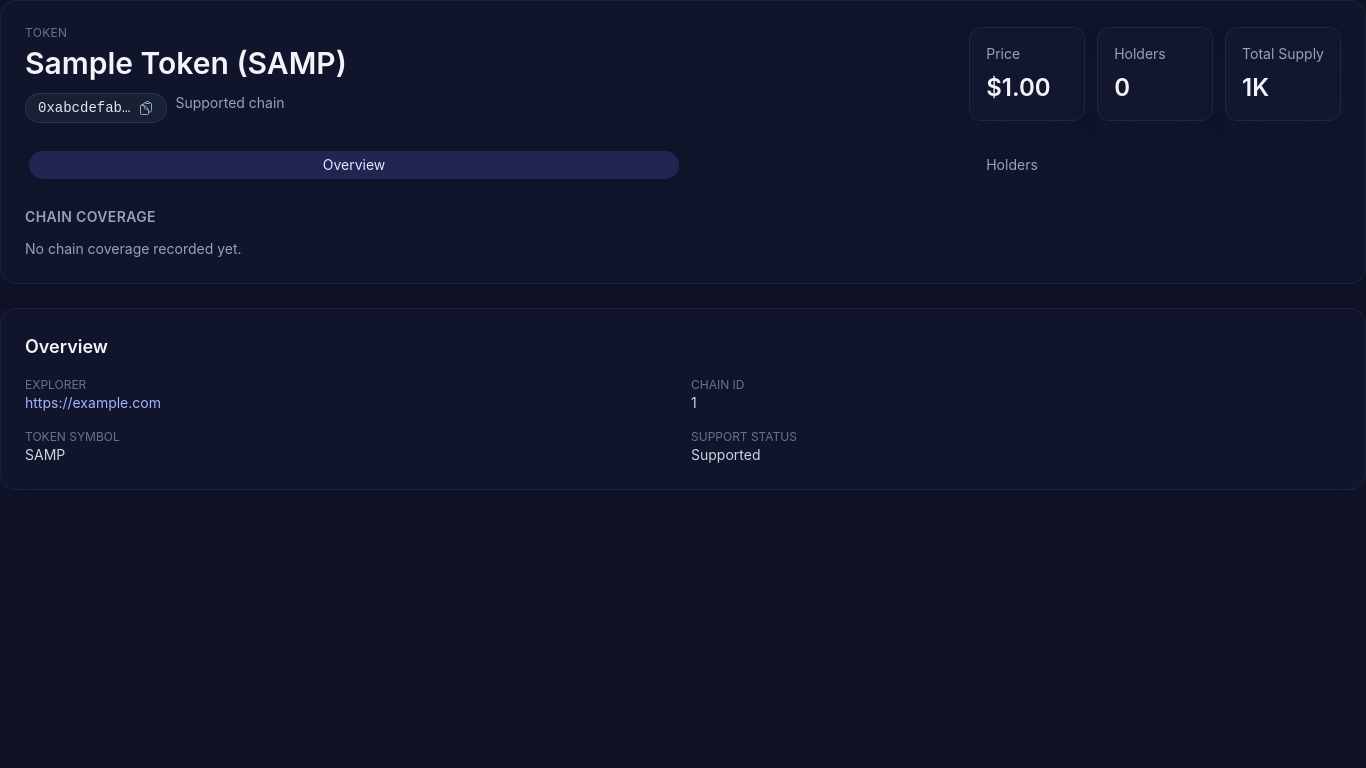
Test: TokenPage › shows empty state message when no status is present
Click the tab "Holders". click: [1012, 165]
box: 687,151 -> 1337,179
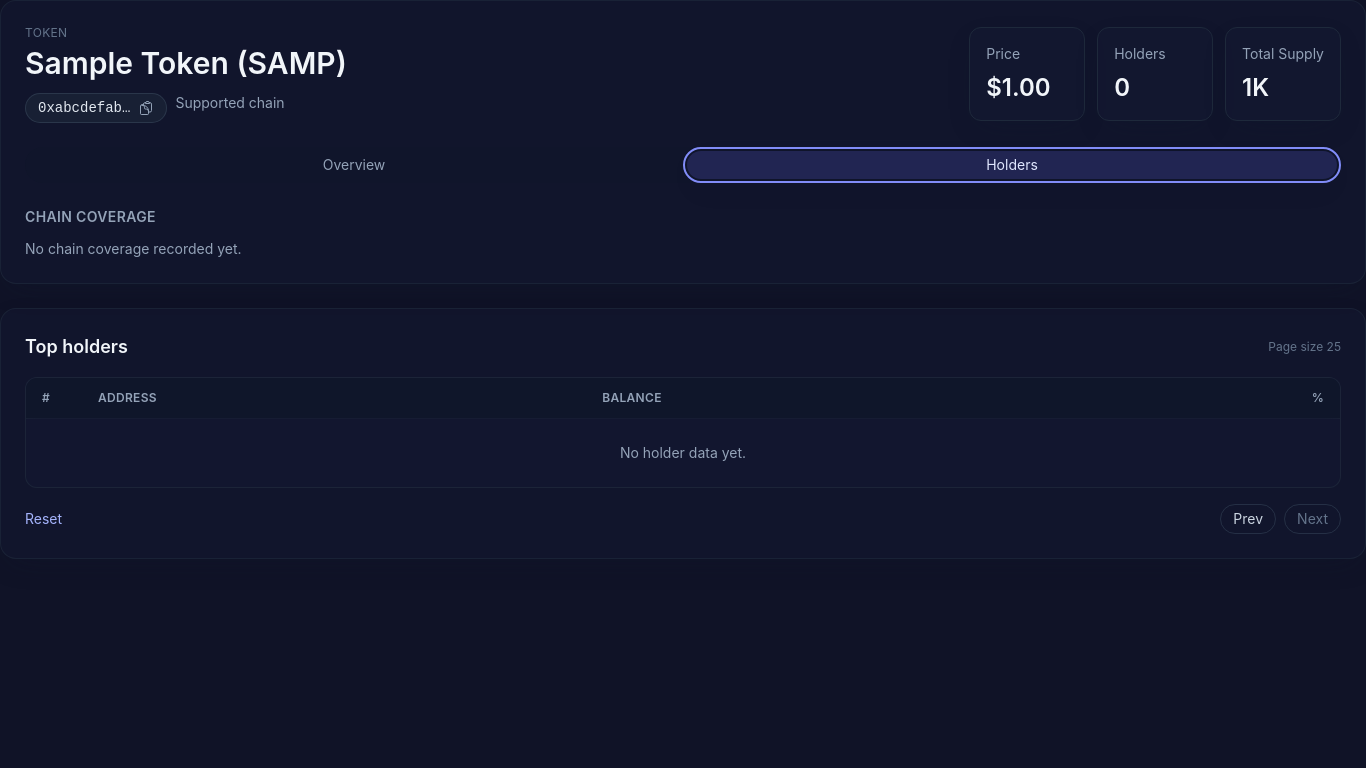
Check: the text "No holder data yet." is shown, box 26,418 -> 1340,487
